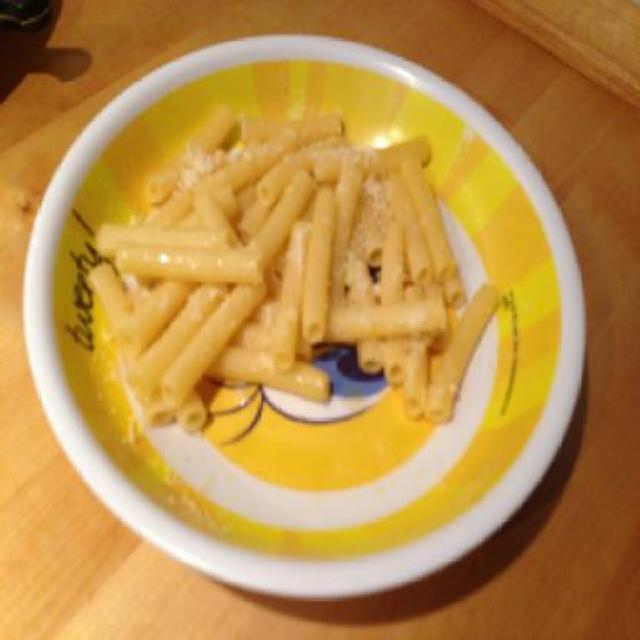Oil pasta: (112, 68, 546, 490)
